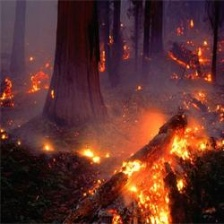fire: (127, 162, 176, 224), (171, 134, 207, 157), (82, 149, 105, 168)
